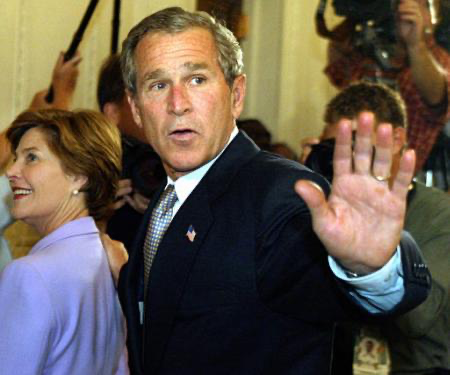Face: (132, 34, 233, 164), (2, 131, 67, 224)
